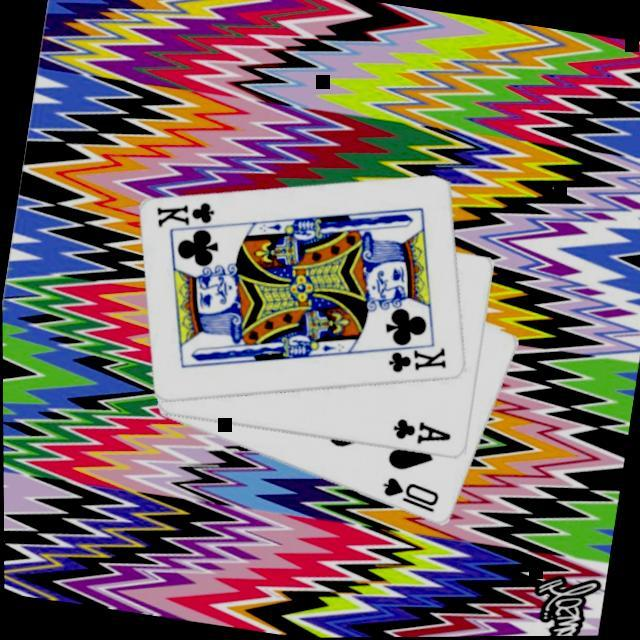10S: (374, 472, 442, 516)
AC: (386, 414, 453, 452)
KC: (148, 191, 227, 244), (372, 330, 450, 383)
